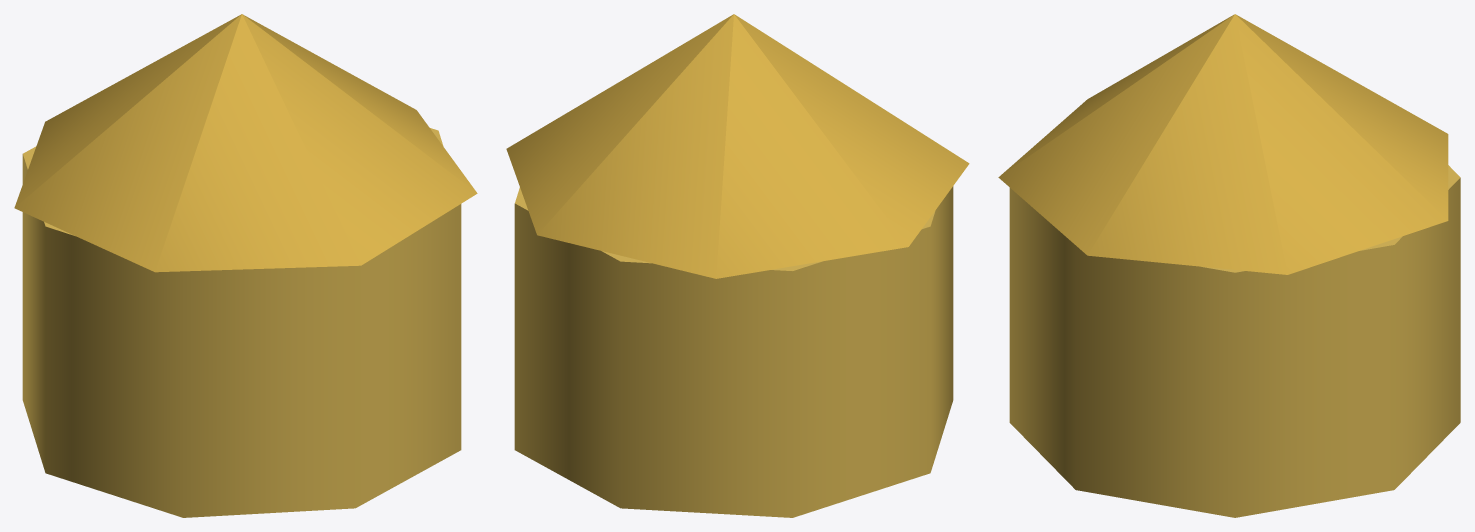
Rendered from pajar.glb.
3 views of the same model, side by side, from view 1: azimuth 30°, elevation 25°; view 2: azimuth 150°, elevation 25°; view 3: azimuth 270°, elevation 25° (orthographic).
Visible parts, largest first — view 1: pajar; view 2: pajar; view 3: pajar.
Part boxes in pixels (x1=…): pajar: x1=14, y1=14, x2=477, y2=517; pajar: x1=506, y1=14, x2=969, y2=517; pajar: x1=998, y1=14, x2=1460, y2=517.
Size of the model in its own units: 2.05 by 2 by 2.05.
